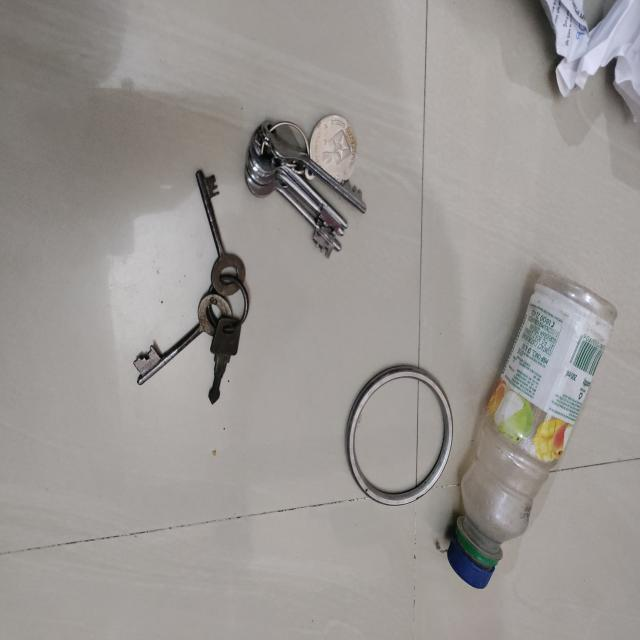metal: (134, 173, 249, 406), (243, 114, 365, 256), (347, 369, 454, 506)
paper: (543, 0, 589, 61)
plastic: (448, 265, 617, 591)
